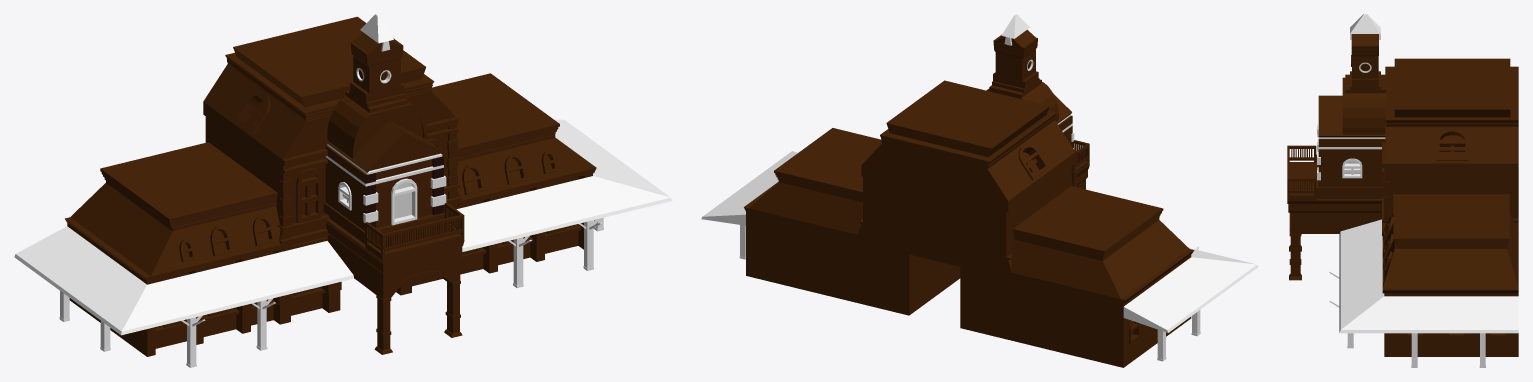
The model's file is keelung station.fbx.
3 renders of one model, left to right at view 1: azimuth 30°, elevation 25°; view 2: azimuth 150°, elevation 25°; view 3: azimuth 270°, elevation 25°, orthographic. The views are drawn at different scales.
Parts seen in each view (by area): view 1: 05, 04, 06, 02, 03, 08, 01, 07, 07.001, Cube; view 2: 05, 04, 06, 01, 02, 08, 07.001, Cube; view 3: 04, 05, 06, 02, 03, 08, 01, Cube, 07.001.
Part boxes in pixels (bbox=[...]): 05: bbox=[65, 73, 596, 356]; 04: bbox=[203, 16, 461, 324]; 06: bbox=[14, 119, 672, 335]; 02: bbox=[323, 120, 464, 260]; 03: bbox=[326, 218, 464, 354]; 08: bbox=[327, 91, 427, 158]; 01: bbox=[349, 32, 405, 107]; 07: bbox=[181, 218, 602, 367]; 07.001: bbox=[59, 217, 603, 351]; Cube: bbox=[360, 14, 393, 51]; 05: bbox=[744, 128, 1194, 367]; 04: bbox=[857, 80, 1077, 340]; 06: bbox=[701, 151, 1258, 332]; 01: bbox=[992, 29, 1039, 92]; 02: bbox=[1054, 94, 1089, 173]; 08: bbox=[986, 79, 1058, 121]; 07.001: bbox=[739, 225, 1200, 361]; Cube: bbox=[1001, 14, 1029, 45]; 04: bbox=[1382, 58, 1518, 235]; 05: bbox=[1382, 194, 1518, 356]; 06: bbox=[1339, 219, 1518, 333]; 02: bbox=[1287, 95, 1385, 200]; 03: bbox=[1287, 199, 1381, 280]; 08: bbox=[1342, 74, 1386, 134]; 01: bbox=[1350, 34, 1380, 89]; Cube: bbox=[1350, 14, 1380, 39]; 07.001: bbox=[1411, 333, 1485, 367].
Bounding box in the file's own units: 489 × 252 × 212.
